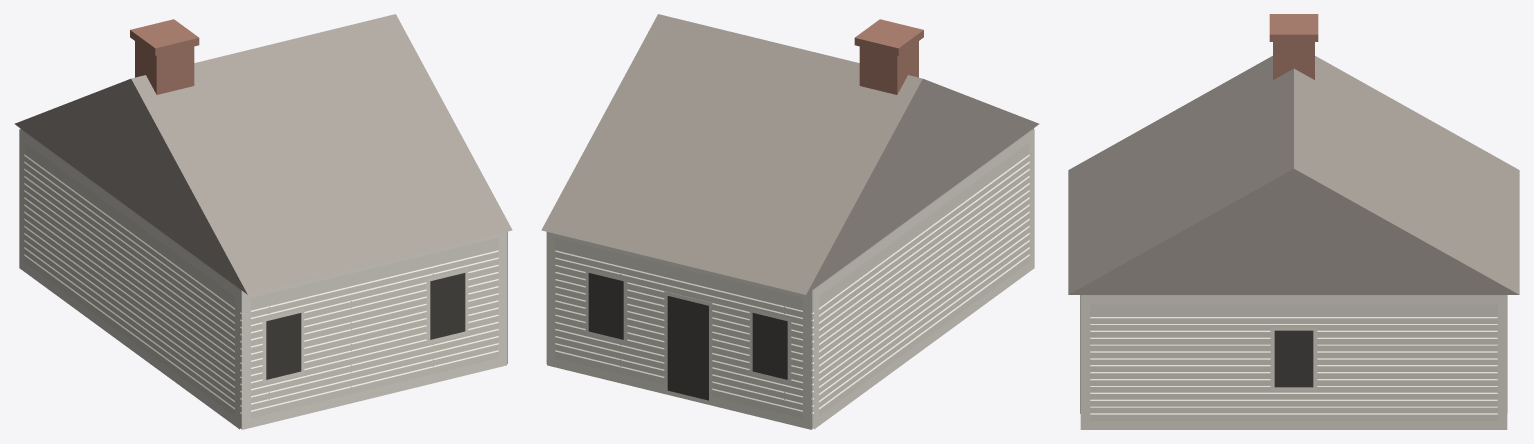
The model's file is recon_1835_blk_washington_franklin_d4_07__inferred_1835.glb.
The picture shows the model from 3 angles, left to right: view 1: azimuth 30°, elevation 25°; view 2: azimuth 150°, elevation 25°; view 3: azimuth 270°, elevation 25°; orthographic projection. The views are drawn at different scales.
Visible parts, largest first — view 1: recon_1835_blk_washington_franklin_d4_07__inferred_1835; view 2: recon_1835_blk_washington_franklin_d4_07__inferred_1835; view 3: recon_1835_blk_washington_franklin_d4_07__inferred_1835.
Boxes of the visible parts, left/top/right/bottom form: recon_1835_blk_washington_franklin_d4_07__inferred_1835: left=14, top=14, right=512, bottom=429; recon_1835_blk_washington_franklin_d4_07__inferred_1835: left=541, top=14, right=1039, bottom=429; recon_1835_blk_washington_franklin_d4_07__inferred_1835: left=1068, top=14, right=1519, bottom=429.
Size of the model in its own units: 5.99 by 6.53 by 9.03.
